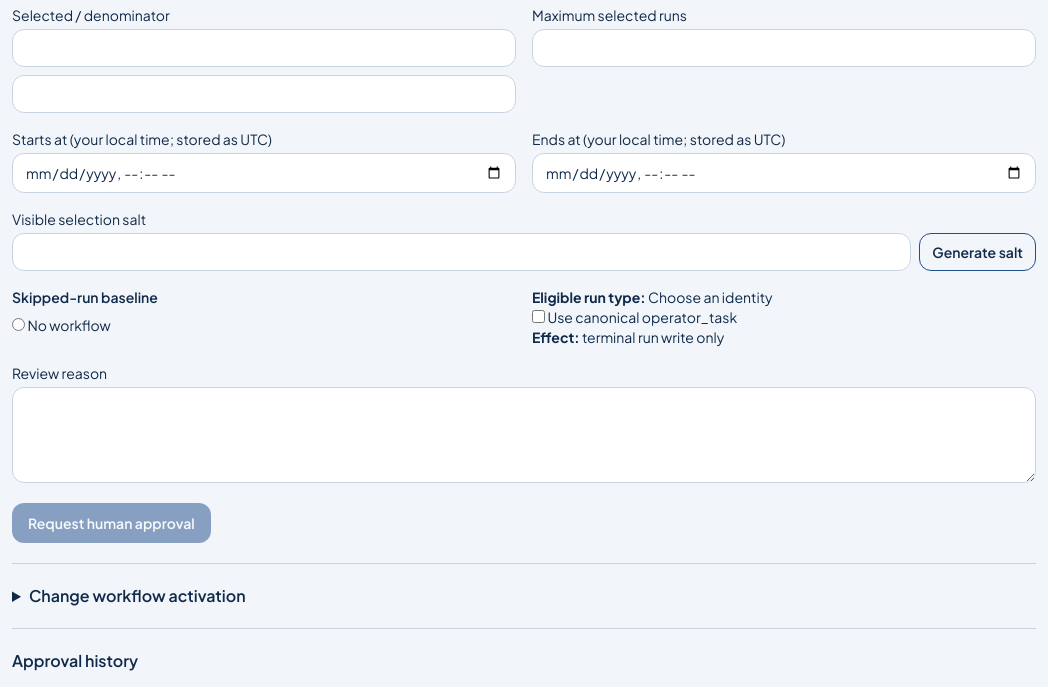
Test: AgentWorkflowActivationReviewPanel › invalidates a pending composer read when transition state is refreshed
(page scrolled)
Click the heading "Change workflow activation".
click(137, 596)  # box [29, 585, 246, 606]
(page scrolled)
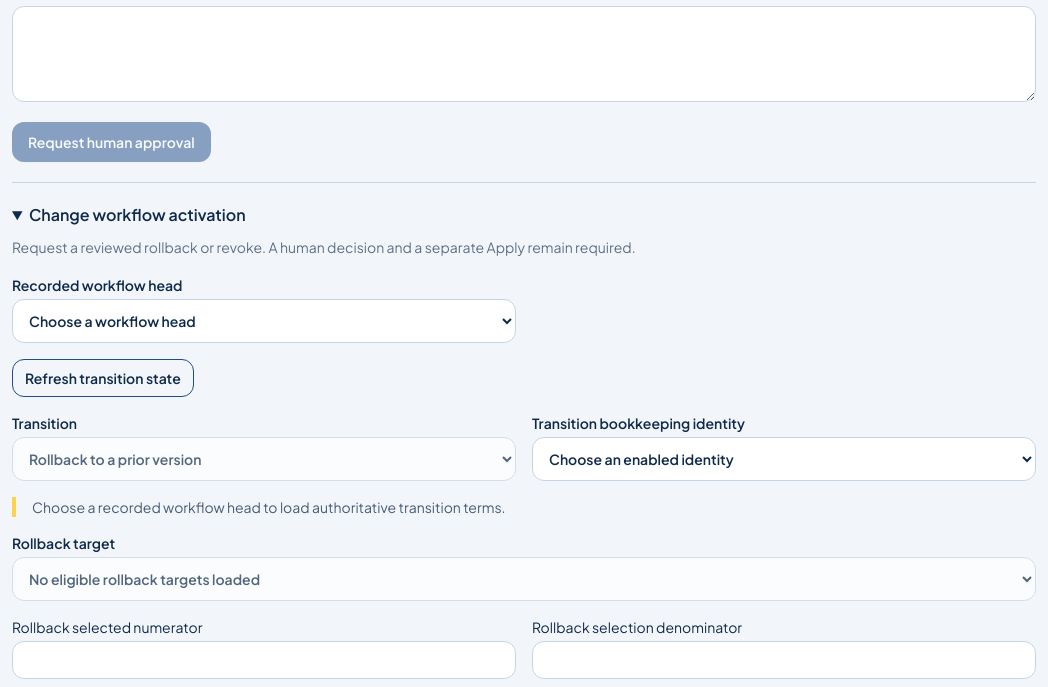
Select "review · revision 3" in the dropdown labelled "Recorded workflow head" at (264, 321), box [12, 299, 516, 343]
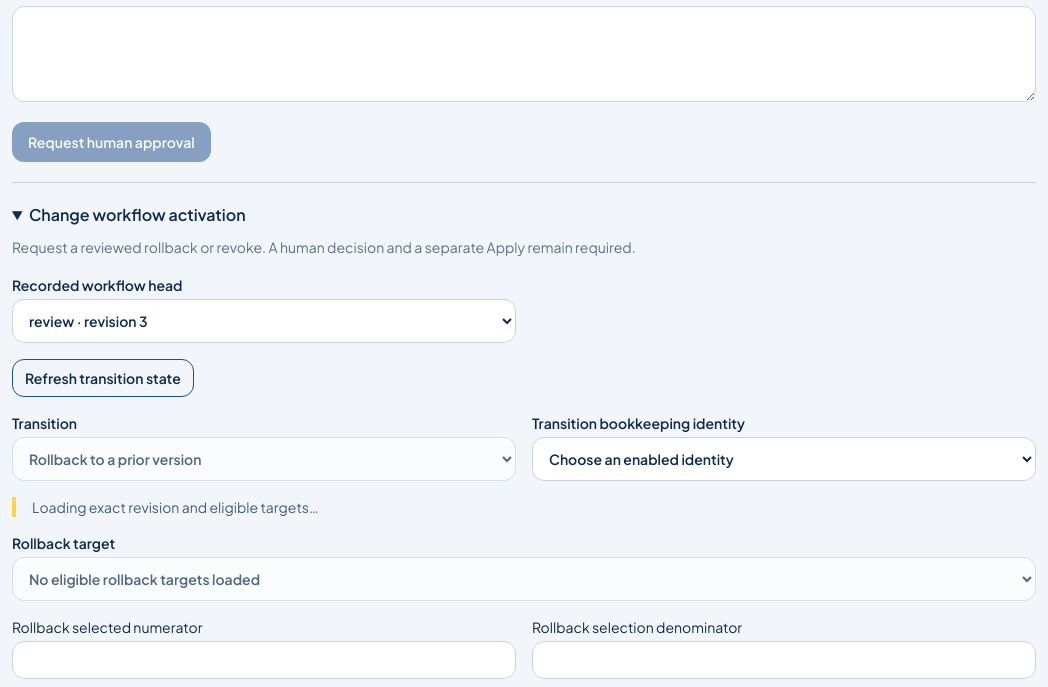
Click the button "Refresh transition state".
click(103, 378)  # box [12, 359, 194, 397]
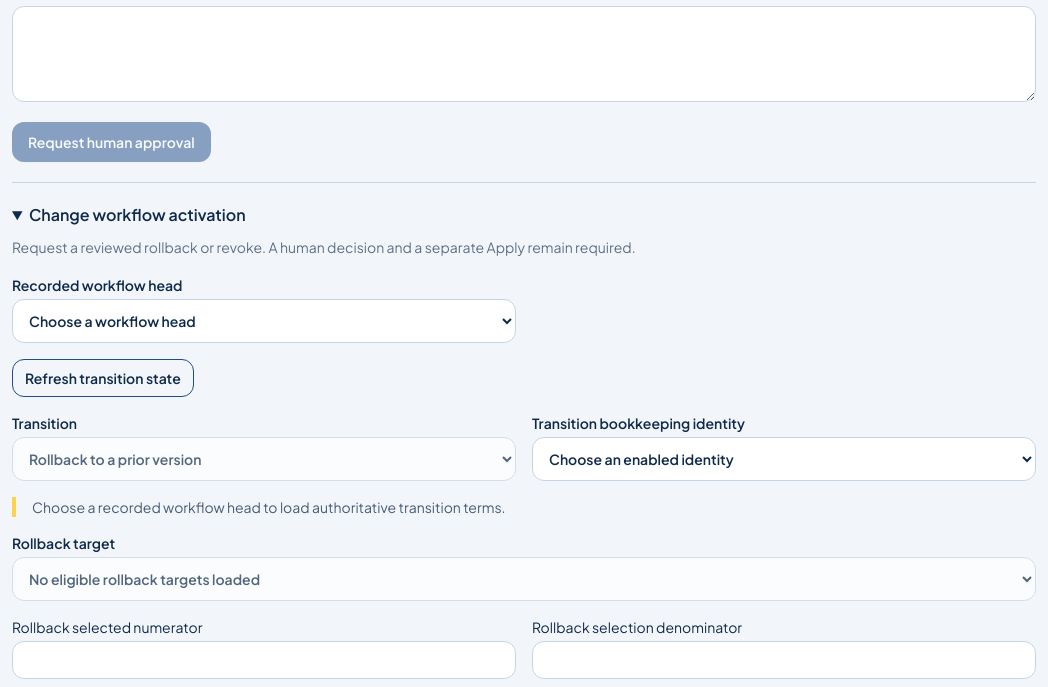
Check: the text "Loading exact revision" is gone
